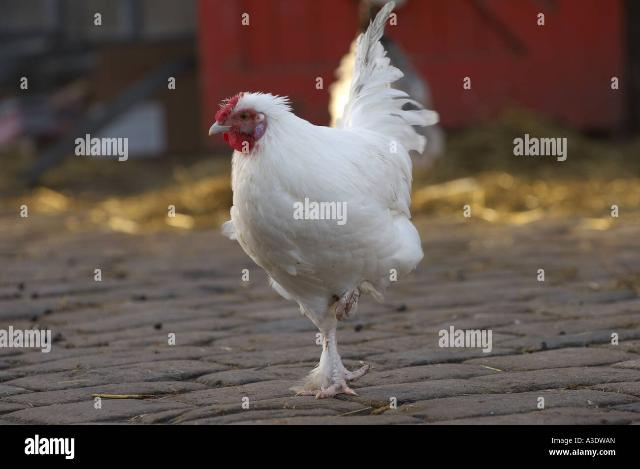Chicken: (209, 4, 440, 401)
